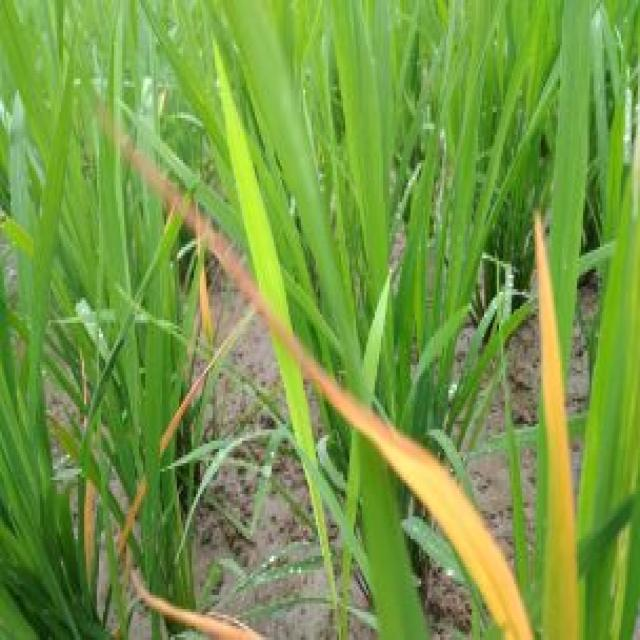Tungro: (95, 112, 537, 637), (206, 48, 334, 622), (292, 359, 540, 640), (89, 232, 228, 616), (524, 195, 595, 640), (160, 301, 258, 459), (95, 115, 206, 232), (127, 568, 274, 640), (76, 352, 98, 601), (111, 469, 151, 589), (196, 237, 214, 356)
